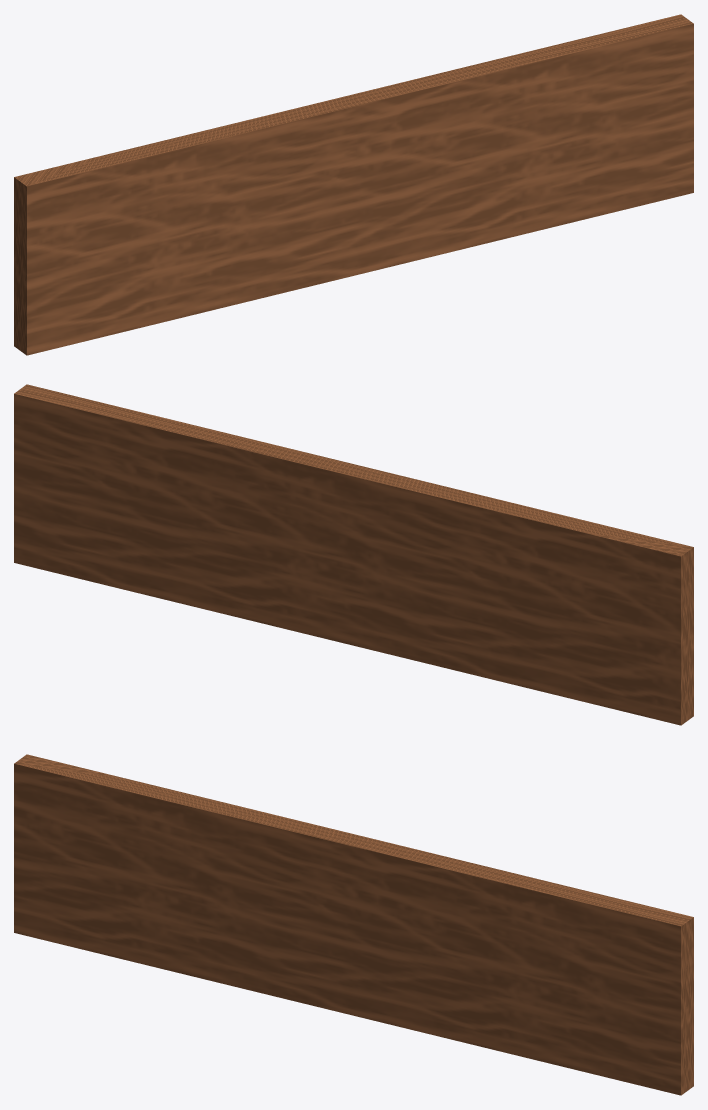
Rendered from BasicWall_1_3.fbx.
The picture shows the model from 3 angles, top to bottom: view 1: azimuth 30°, elevation 25°; view 2: azimuth 150°, elevation 25°; view 3: azimuth 330°, elevation 25°; orthographic projection.
Parts seen in each view (by area): view 1: BasicWall_1/3; view 2: BasicWall_1/3; view 3: BasicWall_1/3.
Part boxes in pixels (bbox=[...]): BasicWall_1/3: bbox=[14, 14, 693, 355]; BasicWall_1/3: bbox=[14, 384, 693, 725]; BasicWall_1/3: bbox=[14, 754, 693, 1095].
Size of the model in its own units: 330 by 80 by 11.01.
